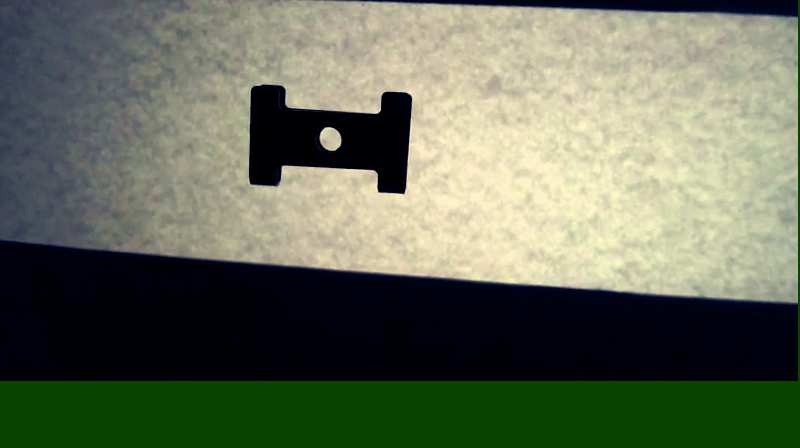O002: (244, 77, 415, 200)
